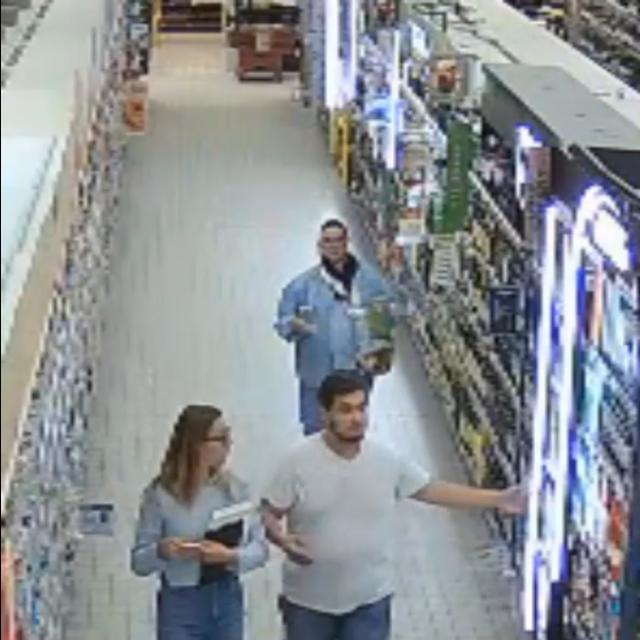article: (345, 301, 386, 351), (213, 497, 250, 543), (206, 515, 241, 546)
bags: (356, 337, 395, 375)
hands: (282, 534, 313, 565), (498, 486, 528, 515), (158, 538, 199, 559), (200, 541, 235, 565), (291, 316, 314, 335)
person: (263, 372, 525, 639), (131, 406, 268, 639), (276, 220, 391, 435)
